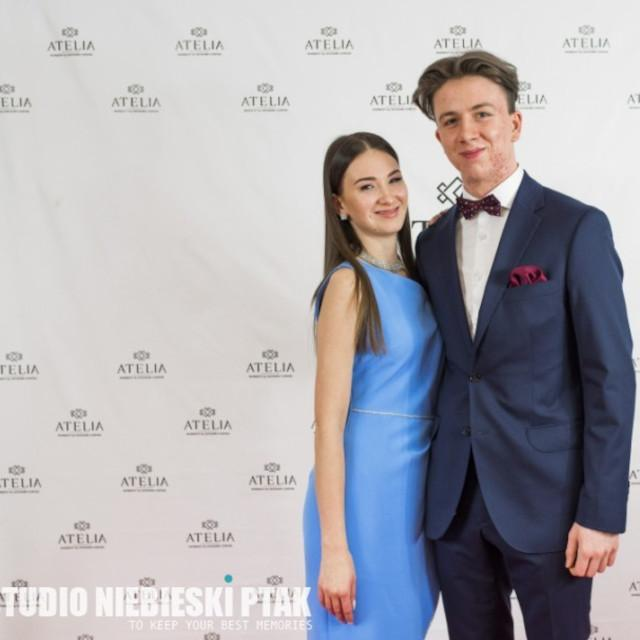kobieta: (306, 133, 437, 640)
mezczyzna: (413, 47, 634, 640)
